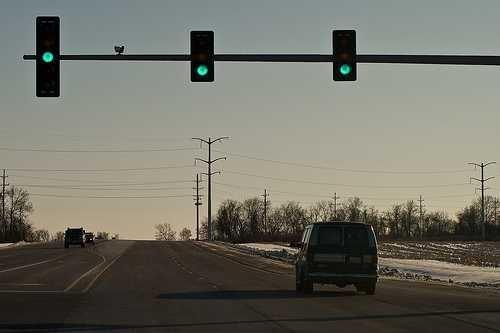2: (190, 30, 215, 81), (332, 33, 358, 81)
red traffic light: (193, 62, 211, 78), (337, 62, 353, 79), (41, 52, 55, 66)
